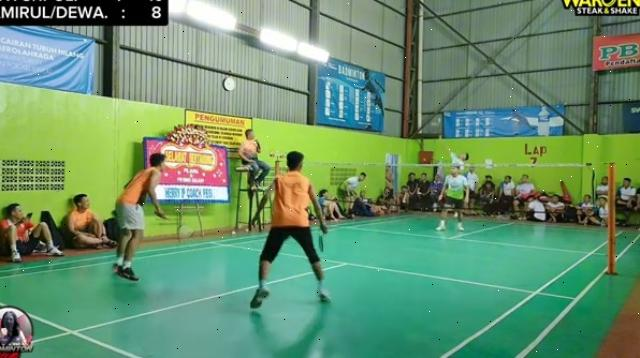Shuttlecock: (437, 117, 443, 123)
